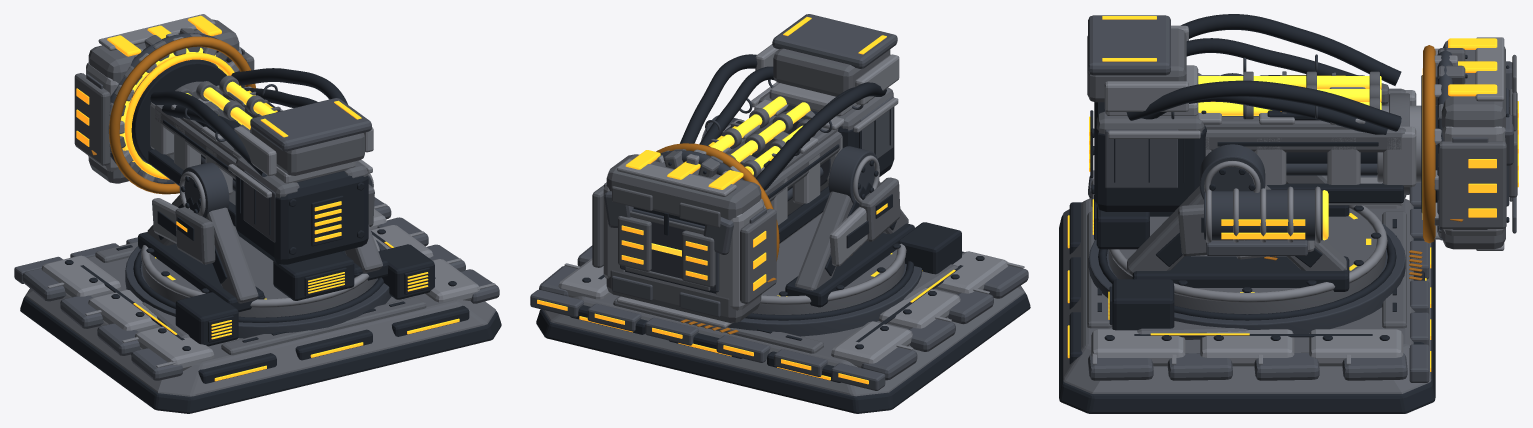
File: epica.glb
3 views of the same model, side by side, from view 1: azimuth 30°, elevation 25°; view 2: azimuth 150°, elevation 25°; view 3: azimuth 270°, elevation 25° (orthographic). The views are drawn at different scales.
Visible parts, largest first — view 1: BaseFixed_Surface, ArmPitch_Surface, TurretYaw_Surface, PistonRecoil_Surface; view 2: BaseFixed_Surface, PistonRecoil_Surface, ArmPitch_Surface, TurretYaw_Surface; view 3: ArmPitch_Surface, BaseFixed_Surface, TurretYaw_Surface, PistonRecoil_Surface.
Part boxes in pixels (x1,y1,x2,y2): BaseFixed_Surface: (14,197,501,413); ArmPitch_Surface: (148,68,373,264); TurretYaw_Surface: (138,162,388,317); PistonRecoil_Surface: (74,14,255,194); BaseFixed_Surface: (530,222,1030,413); PistonRecoil_Surface: (592,143,779,328); ArmPitch_Surface: (680,14,899,243); TurretYaw_Surface: (701,115,914,314); ArmPitch_Surface: (1087,14,1416,255); BaseFixed_Surface: (1059,170,1435,413); TurretYaw_Surface: (1092,73,1387,314); PistonRecoil_Surface: (1377,37,1518,250).
Size of the model in its own units: 3.79 by 2.47 by 3.71.
